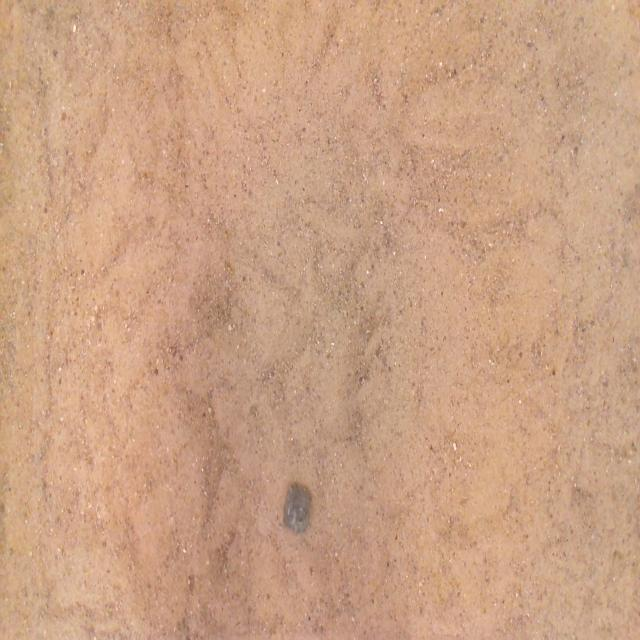rock: (284, 484, 311, 533)
